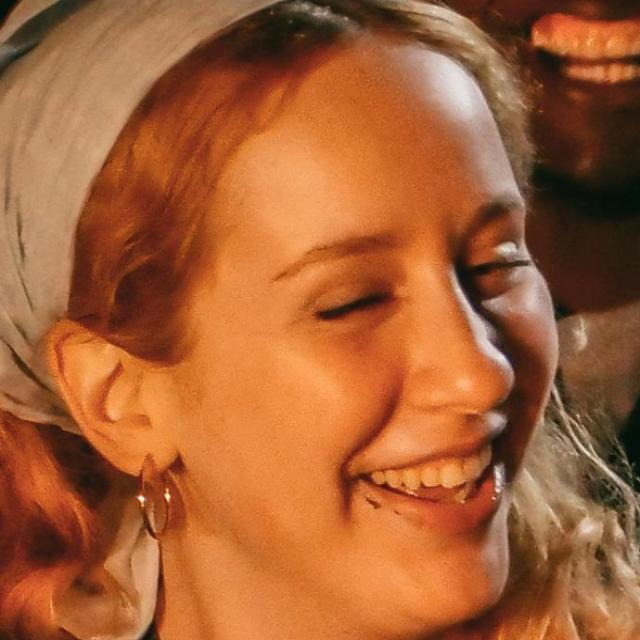close: (280, 219, 429, 342), (446, 173, 542, 304)
